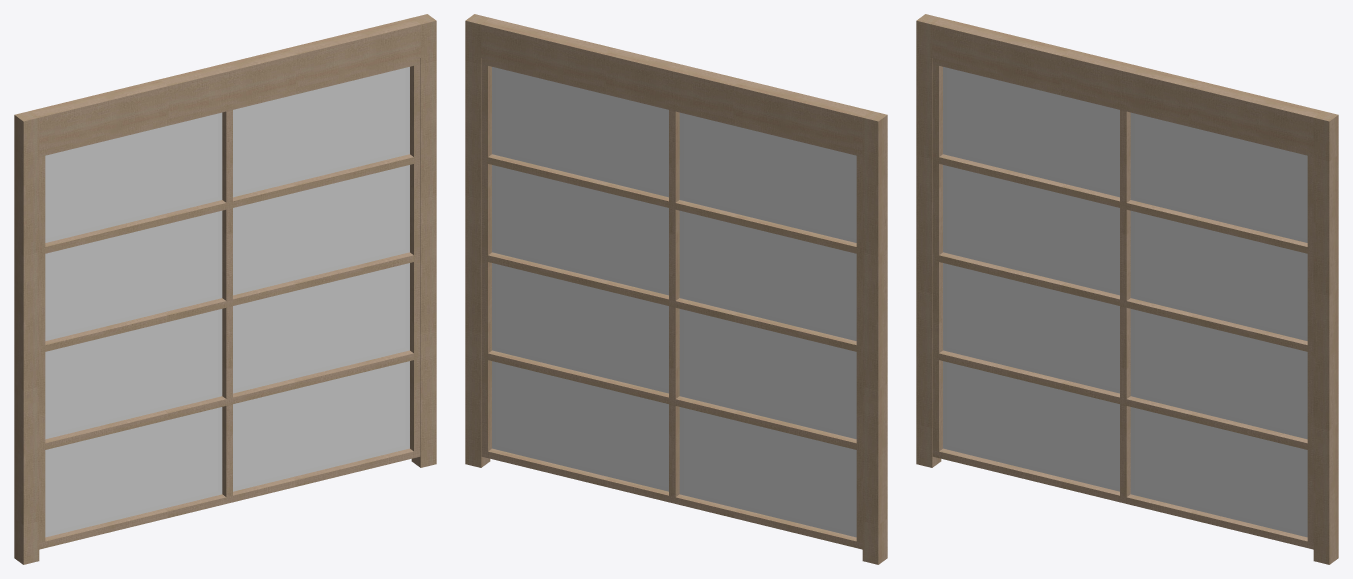
Rendered from es-polycaB_h2000_kareiro.fbx.
3 renders of one model, left to right at view 1: azimuth 30°, elevation 25°; view 2: azimuth 150°, elevation 25°; view 3: azimuth 330°, elevation 25°, orthographic.
Parts seen in each view (by area): view 1: es-polycaB_h2000_kareiro; view 2: es-polycaB_h2000_kareiro; view 3: es-polycaB_h2000_kareiro.
Boxes of the visible parts, <box> form: es-polycaB_h2000_kareiro: <box>14,14,436,564</box>; es-polycaB_h2000_kareiro: <box>465,14,887,564</box>; es-polycaB_h2000_kareiro: <box>916,14,1338,564</box>.
Bounding box in the file's own units: 195 × 200 × 7.5.
Materials: 3 (2 with a texture image).
